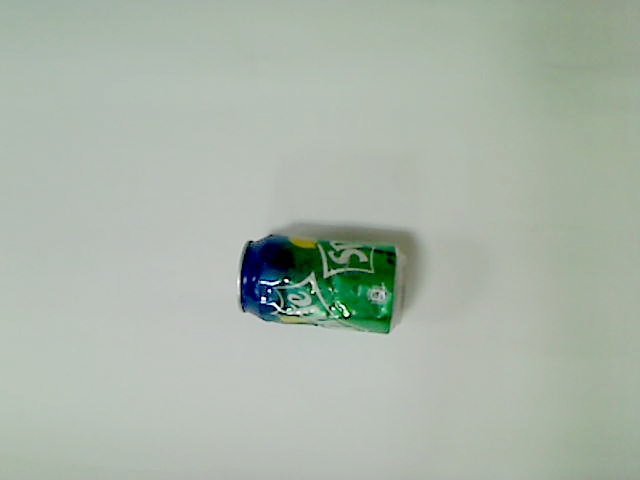can: (235, 234, 410, 338)
